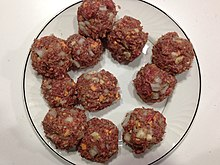meatballs: (42, 107, 116, 154), (79, 4, 139, 55), (122, 111, 168, 152), (75, 73, 123, 111)
